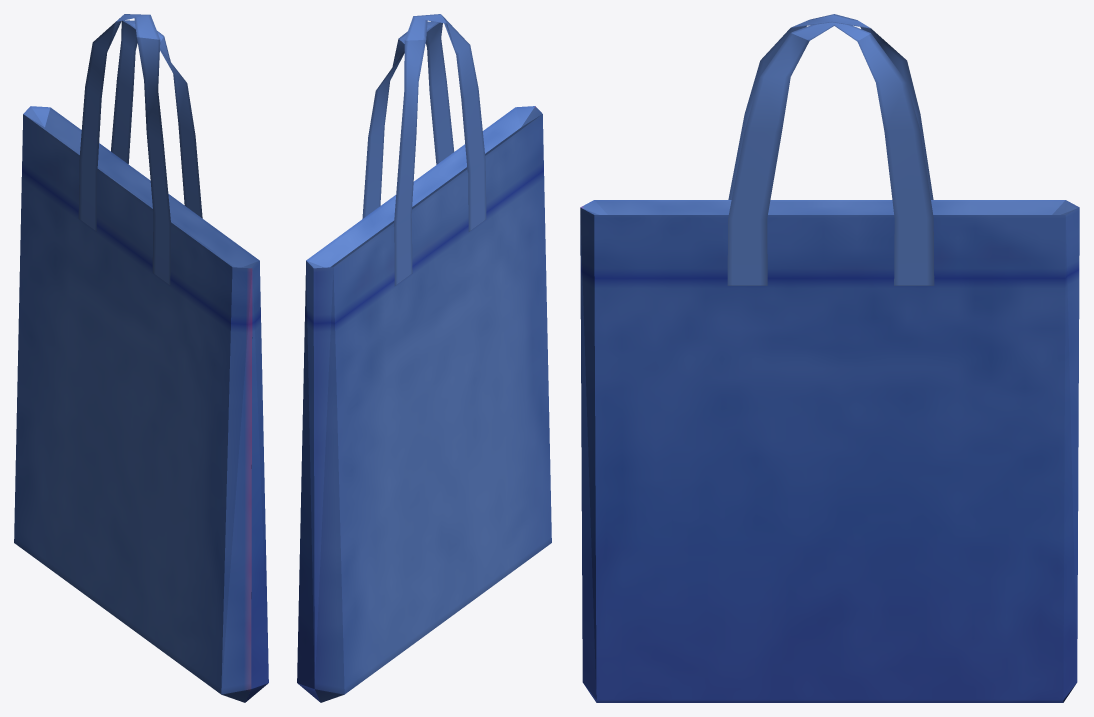
The model's file is bag_typeB1.FBX.
3 renders of one model, left to right at view 1: azimuth 30°, elevation 25°; view 2: azimuth 150°, elevation 25°; view 3: azimuth 270°, elevation 25°, orthographic. The views are drawn at different scales.
Visible parts, largest first — view 1: bag_typeB1; view 2: bag_typeB1; view 3: bag_typeB1.
Part boxes in pixels (bbox=[...]): bag_typeB1: bbox=[14, 14, 268, 702]; bag_typeB1: bbox=[297, 14, 551, 702]; bag_typeB1: bbox=[580, 14, 1079, 702].
Bounding box in the file's own units: 3.46 × 42.36 × 27.94.
